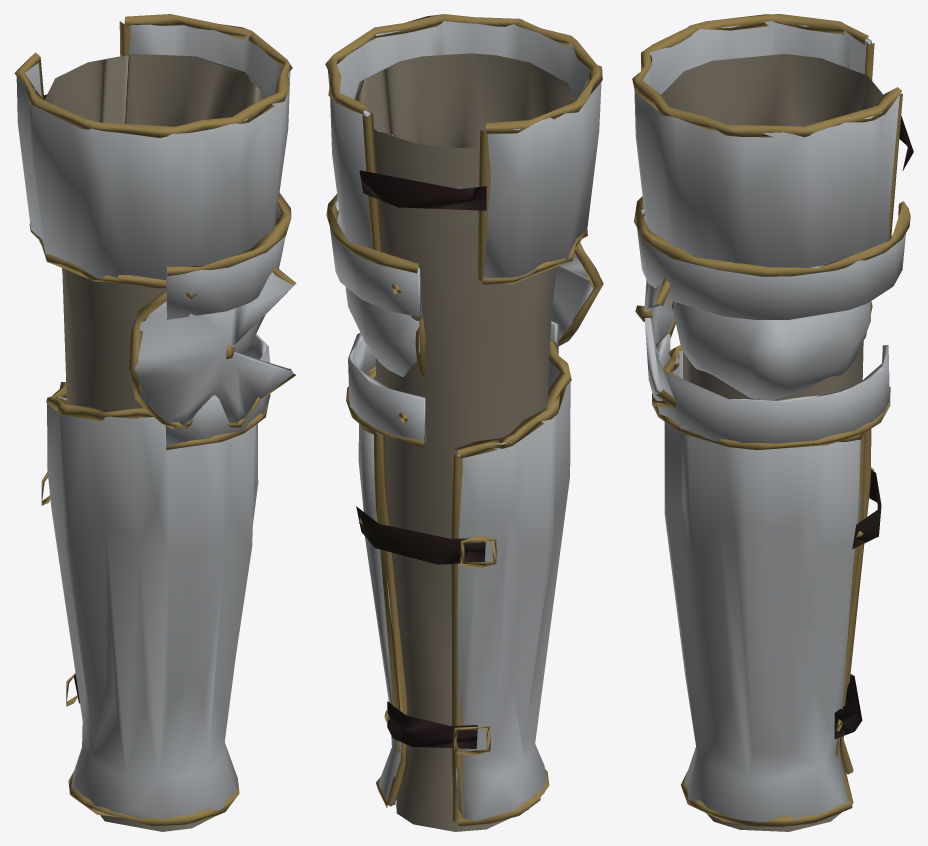
3 renders of one model, left to right at view 1: azimuth 30°, elevation 25°; view 2: azimuth 150°, elevation 25°; view 3: azimuth 270°, elevation 25°, orthographic.
Parts seen in each view (by area): view 1: polished fluted plate, quilted linen lining; view 2: polished fluted plate, quilted linen lining; view 3: polished fluted plate, quilted linen lining.
Part boxes in pixels (left/top/right/bottom): polished fluted plate: left=14, top=14, right=296, bottom=825; quilted linen lining: left=44, top=54, right=266, bottom=831; polished fluted plate: left=325, top=14, right=603, bottom=826; quilted linen lining: left=354, top=53, right=575, bottom=831; polished fluted plate: left=632, top=14, right=910, bottom=827; quilted linen lining: left=661, top=54, right=913, bottom=831.
Bounding box in the file's own units: 0.1519 × 0.4433 × 0.1545.
